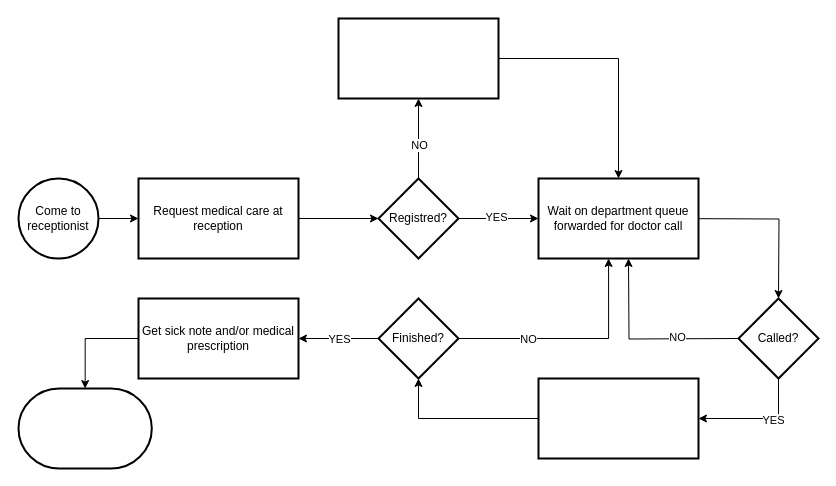
Some shapes in this 836 by 486 pixel diagram are drawn without their labels. Here are the shapes that lost their labels. From the top down, the box of each, then its label:
(337, 17, 499, 99): Register a profile
(17, 387, 152, 469): FINISH
(537, 377, 699, 459): Go to see doctor
